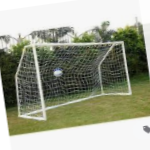goals: (16, 39, 136, 120)
